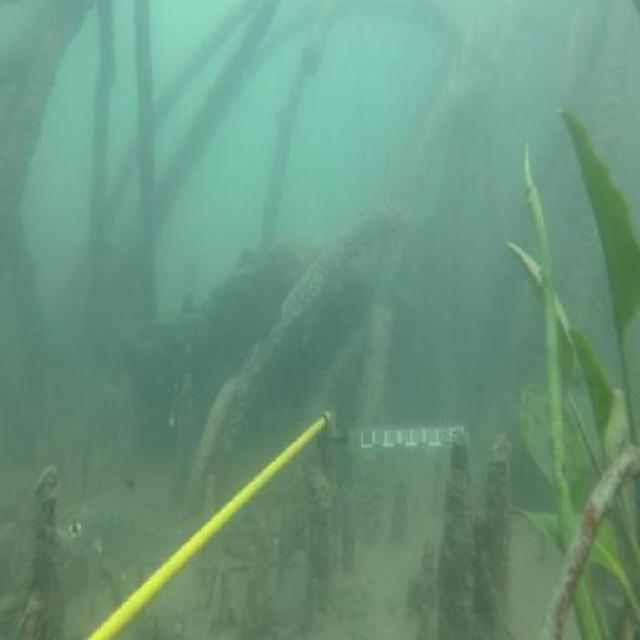gerres: (53, 478, 201, 585)
